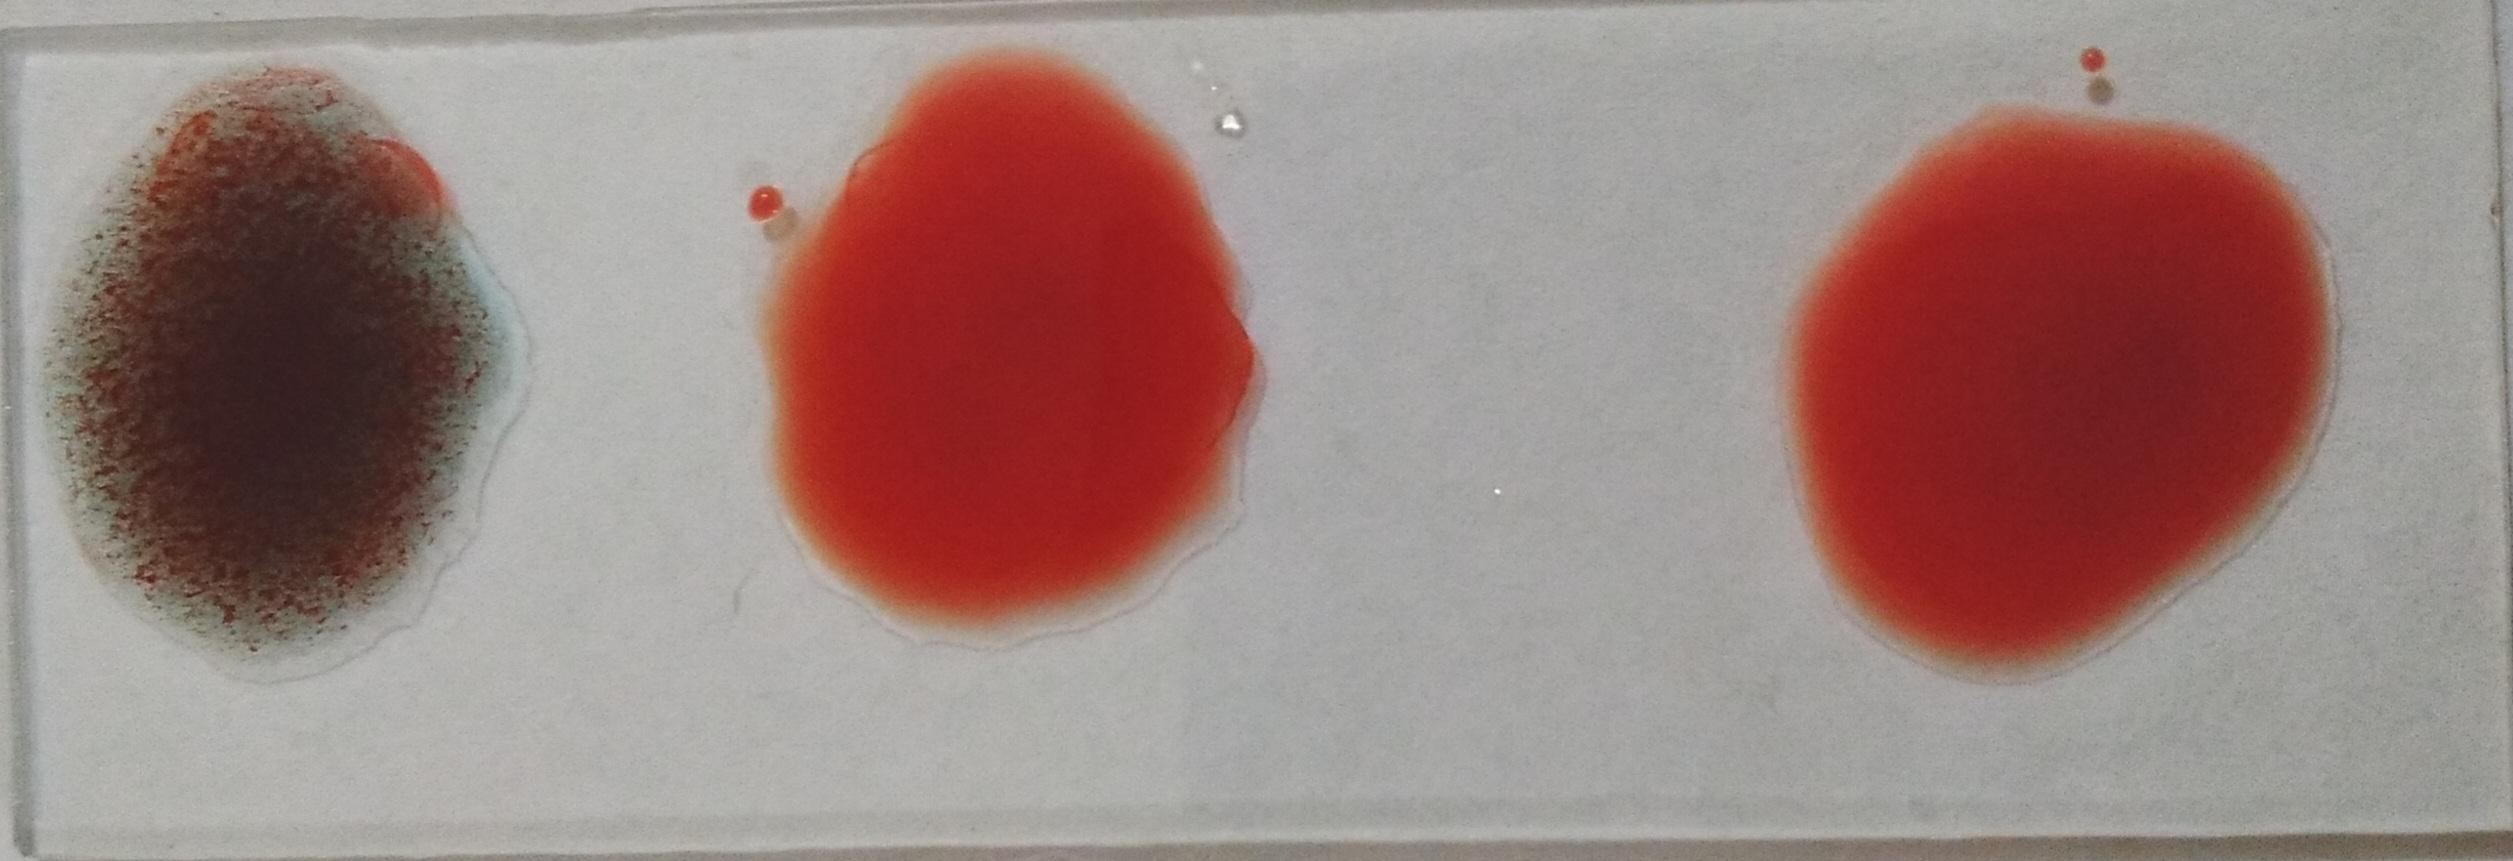A: (51, 56, 482, 680)
